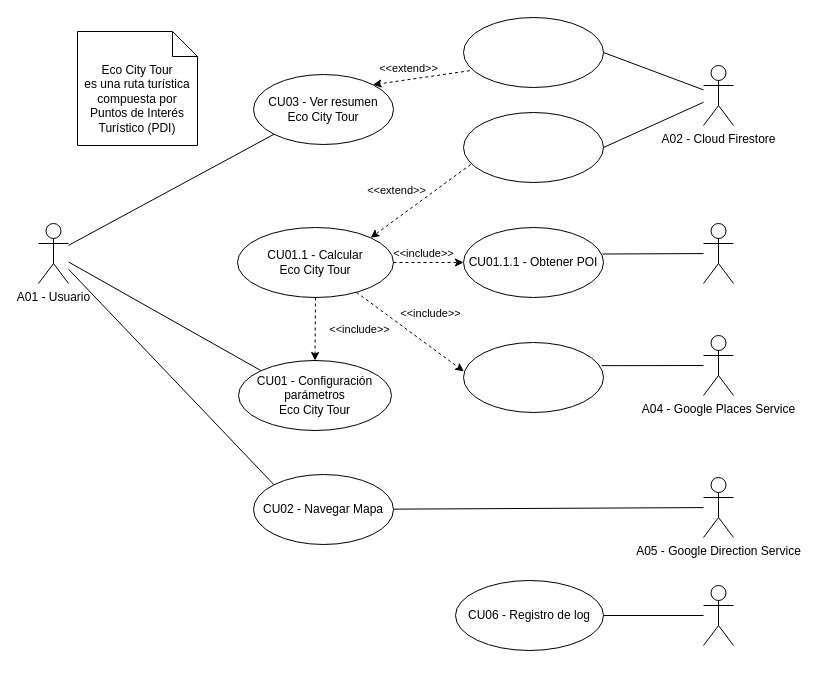
This 818x684 diagram has some shape labels left out. The centre of each missing label's shape, as x and y in pixels:
"A03 - Gemini-pro 1.5" goes at (718,253).
"A06 - Crashlytics" goes at (718,615).
"CU01.1.2 - Mejorar información POI" goes at (533,377).
"CU04 - Guardar Eco City Tour" goes at (533,52).
"CU05 - Cargar Eco City Tour" goes at (533,147).
